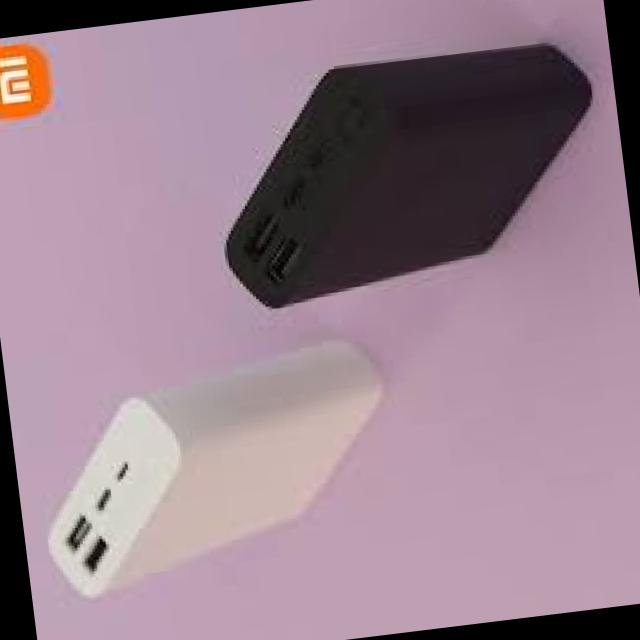portable-charger: (196, 32, 615, 308), (17, 323, 414, 602)
